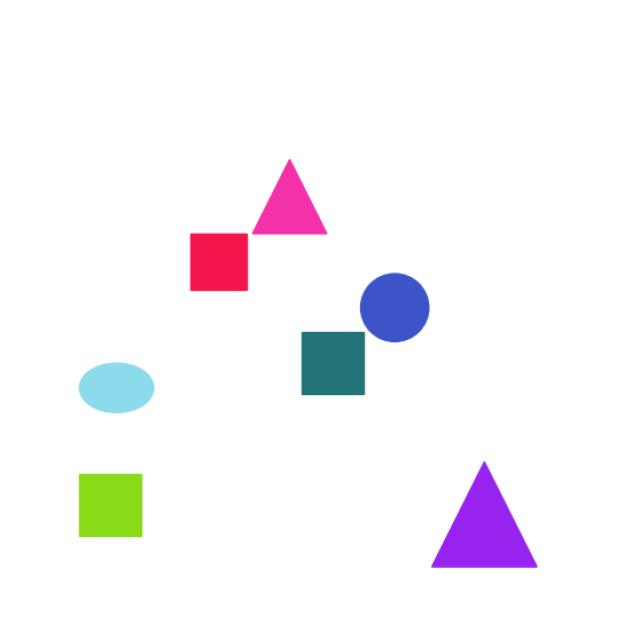Circle: (354, 263, 436, 345)
Oval: (72, 352, 169, 424)
Triangle: (413, 436, 555, 586), (250, 150, 331, 244)
square: (290, 325, 380, 402), (69, 465, 155, 544), (184, 228, 255, 304)
